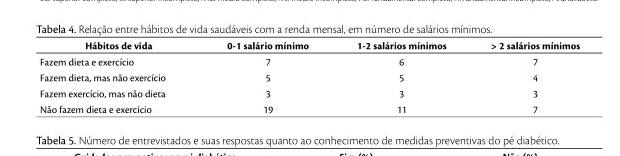table: (39, 38, 579, 114)
table column: (39, 38, 195, 114), (195, 38, 332, 114), (332, 38, 467, 114), (467, 38, 579, 114)
table column header: (39, 38, 579, 53)
table row: (39, 53, 579, 69), (39, 84, 579, 100), (39, 38, 579, 53), (39, 69, 579, 84), (39, 100, 579, 114)
